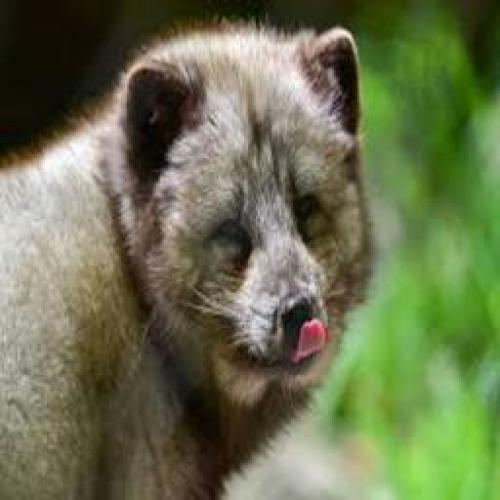arctic_fox-endangered: (2, 17, 390, 498)
